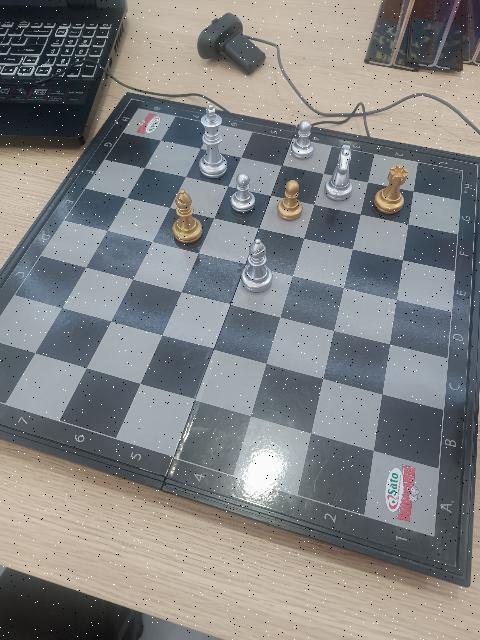black_bishop: (172, 189, 203, 246)
black_pawn: (277, 179, 303, 223)
black_rook: (373, 165, 409, 218)
white_bishop: (241, 238, 273, 294)
white_king: (198, 105, 227, 178)
white_knight: (326, 144, 354, 199)
white_pawn: (291, 119, 316, 162), (232, 174, 256, 217)
